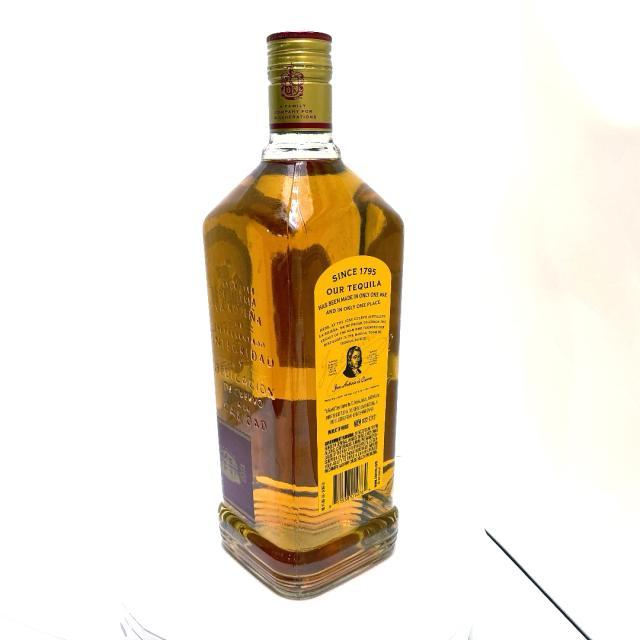JOSE-CUERVO-GOLD-TEQUILA-1.75L: (202, 32, 407, 600)
